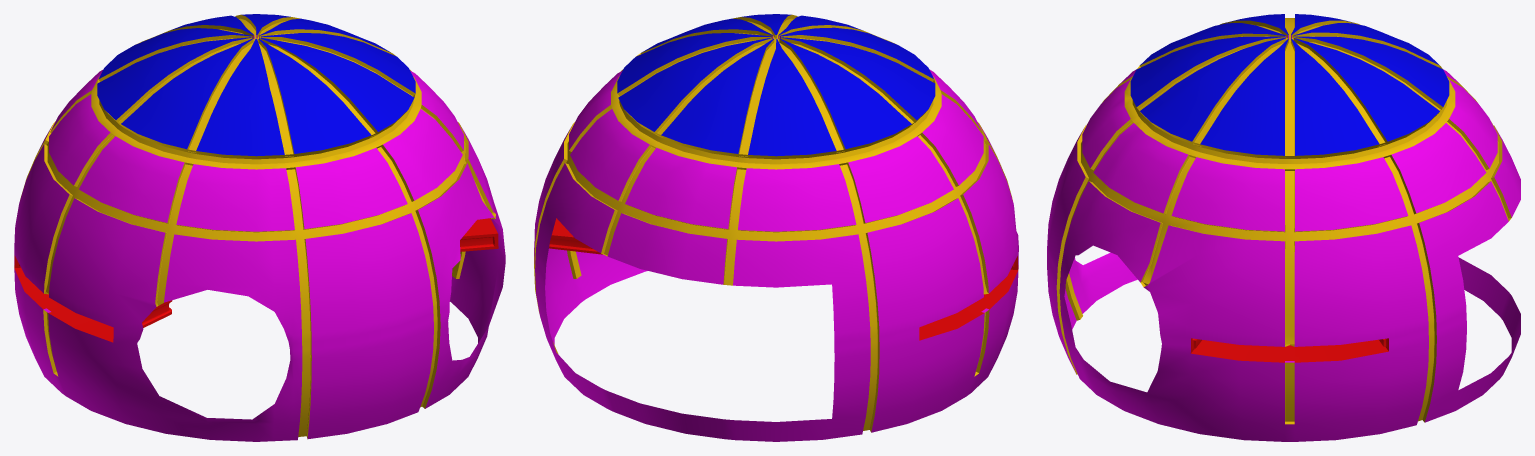
The model's file is Inside_Wall_Wigdrasil_Lab.fbx.
3 renders of one model, left to right at view 1: azimuth 30°, elevation 25°; view 2: azimuth 150°, elevation 25°; view 3: azimuth 270°, elevation 25°, orthographic.
Visible parts, largest first — view 1: polySurface236; view 2: polySurface236; view 3: polySurface236.
Part boxes in pixels (x1,y1,x2,y2): polySurface236: (14, 14, 505, 441); polySurface236: (534, 14, 1018, 441); polySurface236: (1047, 14, 1520, 441).
Bounding box in the file's own units: 568 × 400 × 552.
